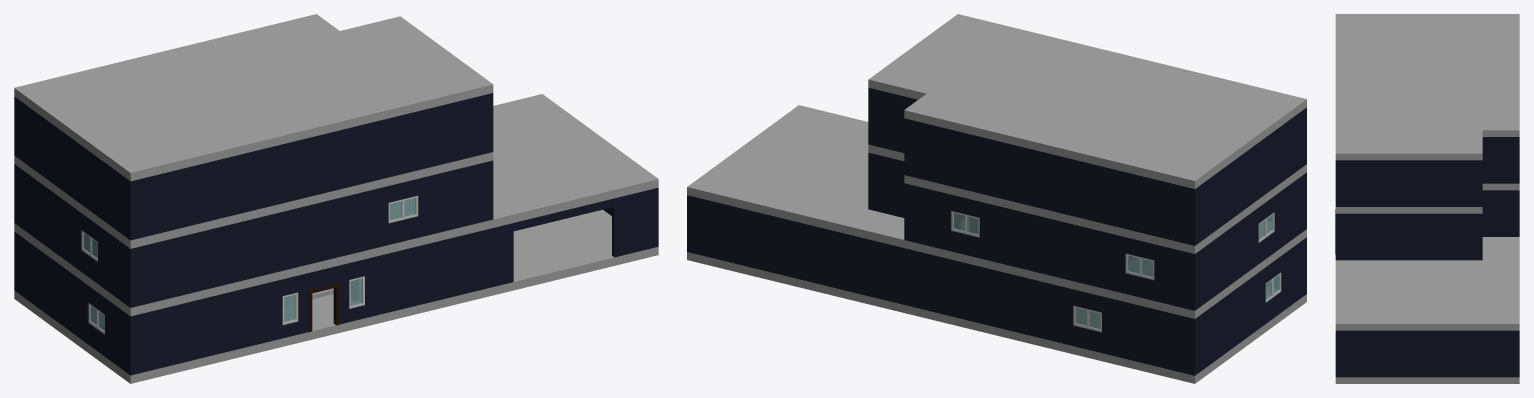
File: casa.FBX
3 renders of one model, left to right at view 1: azimuth 30°, elevation 25°; view 2: azimuth 150°, elevation 25°; view 3: azimuth 270°, elevation 25°, orthographic. The views are drawn at different scales.
Parts seen in each view (by area): view 1: ForjadoTecho, PlantaBaja, Guardilla, SegundaPlanta, ForjadoSegunda, ForjadoBaja, ForjadoTejado, Ventanas, Puertas; view 2: ForjadoTecho, PlantaBaja, Guardilla, SegundaPlanta, ForjadoSegunda, ForjadoBaja, ForjadoTejado, Ventanas; view 3: ForjadoTecho, ForjadoSegunda, PlantaBaja, SegundaPlanta, Guardilla, ForjadoTejado, ForjadoBaja.
Part boxes in pixels (<box>): ForjadoTecho: <box>14,14,493,181</box>; PlantaBaja: <box>14,187,658,375</box>; Guardilla: <box>14,93,493,240</box>; SegundaPlanta: <box>14,160,493,307</box>; ForjadoSegunda: <box>14,94,658,316</box>; ForjadoBaja: <box>14,209,658,383</box>; ForjadoTejado: <box>14,152,493,248</box>; Ventanas: <box>83,198,415,331</box>; Puertas: <box>308,282,340,332</box>; ForjadoTecho: <box>868,14,1306,188</box>; PlantaBaja: <box>687,195,1306,375</box>; Guardilla: <box>868,87,1306,245</box>; SegundaPlanta: <box>868,152,1306,310</box>; ForjadoSegunda: <box>687,105,1306,318</box>; ForjadoBaja: <box>687,252,1306,383</box>; ForjadoTejado: <box>868,144,1306,253</box>; Ventanas: <box>953,213,1279,329</box>; ForjadoTecho: <box>1335,14,1519,160</box>; ForjadoSegunda: <box>1335,237,1519,330</box>; PlantaBaja: <box>1335,330,1519,377</box>; SegundaPlanta: <box>1335,190,1519,260</box>; Guardilla: <box>1335,137,1519,206</box>; ForjadoTejado: <box>1335,183,1519,213</box>; ForjadoBaja: <box>1335,377,1519,383</box>.
Size of the model in its own units: 5157 by 1969 by 1972.
